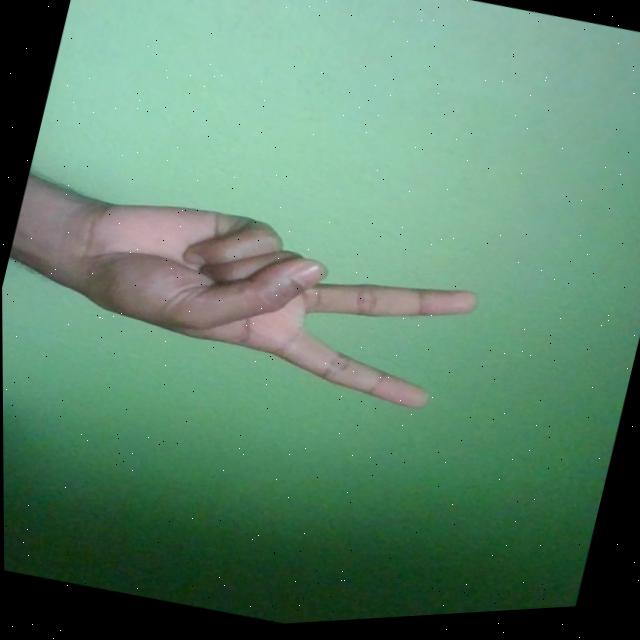Peace: (50, 169, 487, 439)
